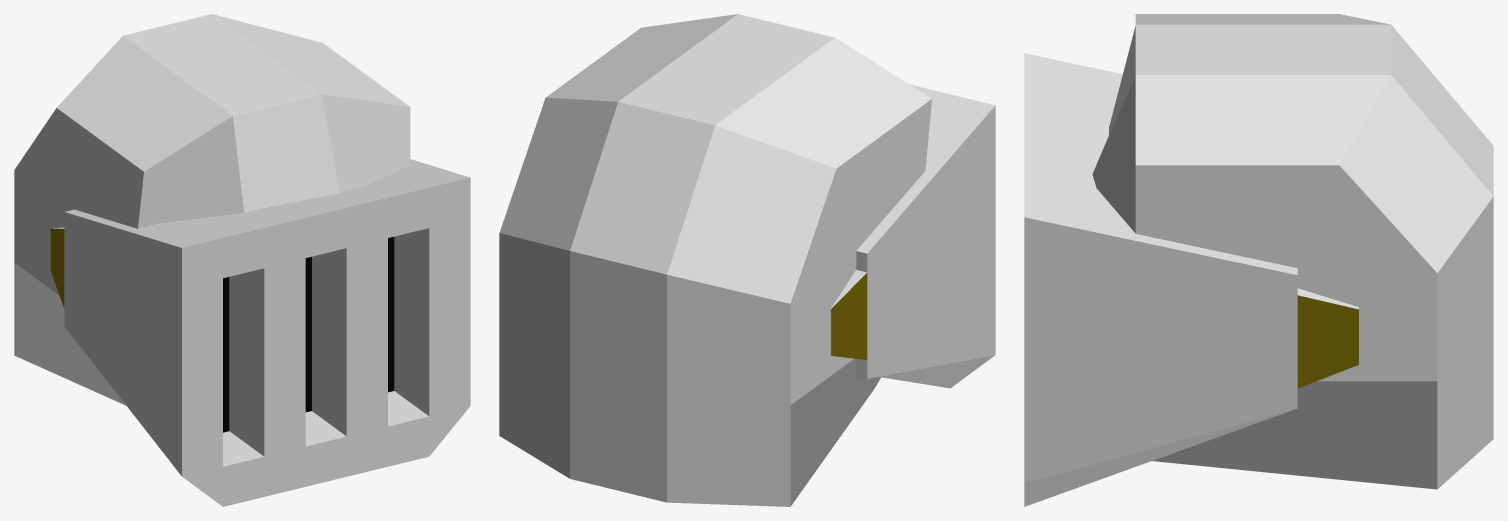
File: Chivalrous.glb
3 renders of one model, left to right at view 1: azimuth 30°, elevation 25°; view 2: azimuth 150°, elevation 25°; view 3: azimuth 270°, elevation 25°, orthographic. The views are drawn at different scales.
Visible parts, largest first — view 1: Cube.050, Chivalrous; view 2: Chivalrous, Cube.050; view 3: Chivalrous, Cube.050.
Boxes of the visible parts, x1,y1,x2,y2 form: Cube.050: (50, 159, 470, 506); Chivalrous: (14, 14, 410, 405); Chivalrous: (499, 14, 931, 506); Cube.050: (830, 84, 995, 388); Chivalrous: (1092, 14, 1493, 489); Cube.050: (1024, 53, 1358, 506).
Bounding box in the file's own units: 0.5391 × 0.6101 × 0.6521.
